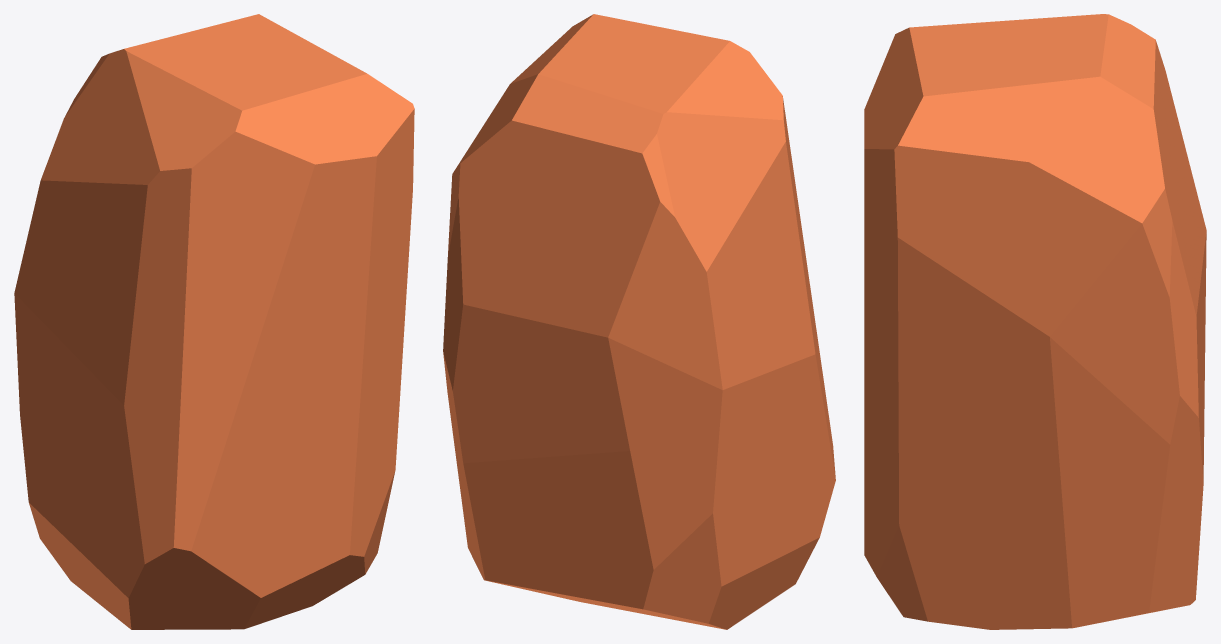
File: JumpRock_1.fbx
3 views of the same model, side by side, from view 1: azimuth 30°, elevation 25°; view 2: azimuth 150°, elevation 25°; view 3: azimuth 270°, elevation 25° (orthographic). The views are drawn at different scales.
Visible parts, largest first — view 1: Rock_9; view 2: Rock_9; view 3: Rock_9.
Part boxes in pixels (left/top/right/bottom): Rock_9: left=14, top=14, right=414, bottom=629; Rock_9: left=443, top=14, right=835, bottom=629; Rock_9: left=864, top=14, right=1206, bottom=629.
Bounding box in the file's own units: 861 × 1453 × 810.
